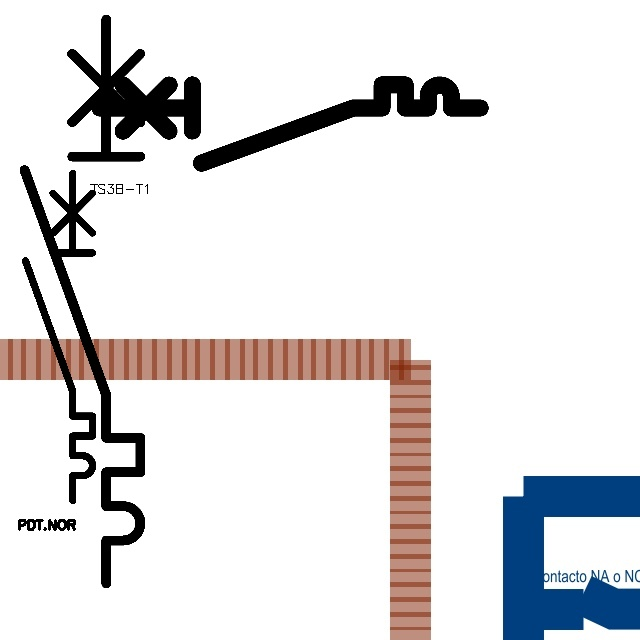interruptor_termomagnetico: (10, 5, 155, 598), (90, 75, 490, 173), (17, 165, 101, 509)
